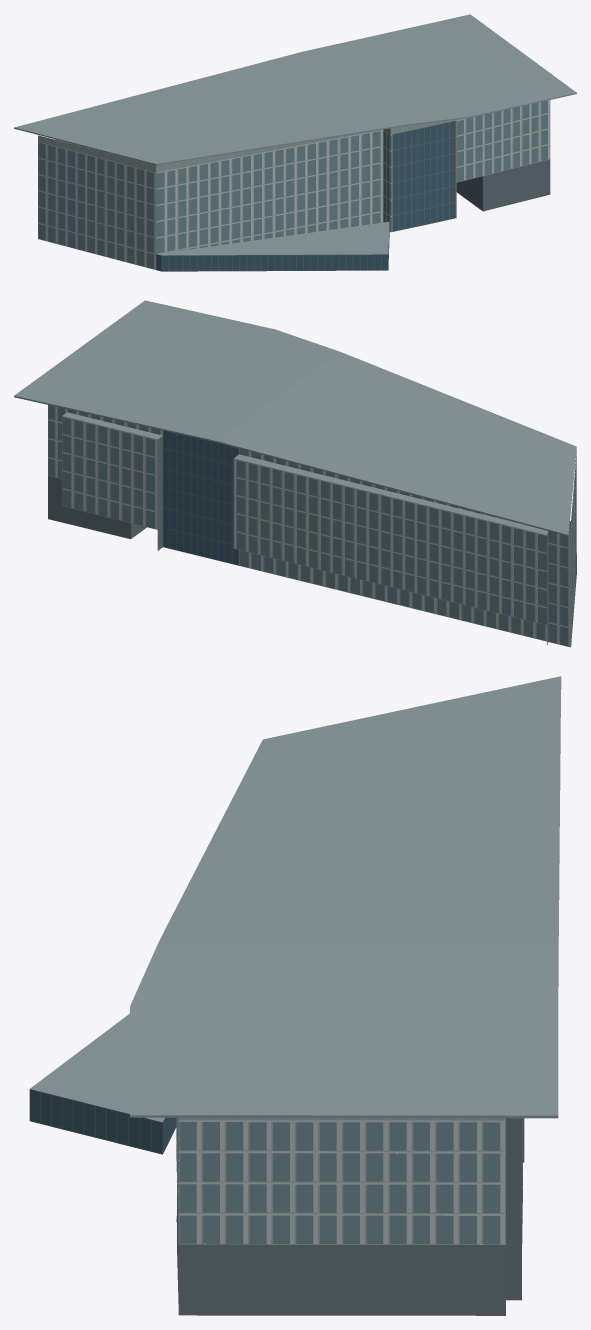
File: surrey-city-hall-near.glb
The picture shows the model from 3 angles, top to bottom: view 1: azimuth 30°, elevation 25°; view 2: azimuth 150°, elevation 25°; view 3: azimuth 270°, elevation 25°; orthographic projection. The views are drawn at different scales.
Parts seen in each view (by area): view 1: surrey-city-hall-0-roof, surrey-city-hall-0-glass, surrey-city-hall-0-frit, surrey-city-hall-0-atrium, surrey-city-hall-0-mullion, surrey-city-hall-0-core, surrey-city-hall-0-glow; view 2: surrey-city-hall-0-roof, surrey-city-hall-0-glass, surrey-city-hall-0-frit, surrey-city-hall-0-mullion, surrey-city-hall-0-atrium, surrey-city-hall-0-core; view 3: surrey-city-hall-0-roof, surrey-city-hall-0-glass, surrey-city-hall-0-core, surrey-city-hall-0-frit, surrey-city-hall-0-mullion, surrey-city-hall-0-atrium, surrey-city-hall-0-glow.
Boxes of the visible parts, left/top/right/bottom form: surrey-city-hall-0-roof: left=14, top=14, right=576, bottom=255; surrey-city-hall-0-glass: left=38, top=100, right=547, bottom=268; surrey-city-hall-0-frit: left=38, top=100, right=550, bottom=269; surrey-city-hall-0-atrium: left=156, top=121, right=455, bottom=271; surrey-city-hall-0-mullion: left=38, top=100, right=550, bottom=269; surrey-city-hall-0-core: left=156, top=120, right=550, bottom=271; surrey-city-hall-0-glow: left=39, top=119, right=461, bottom=172; surrey-city-hall-0-roof: left=14, top=300, right=576, bottom=554; surrey-city-hall-0-glass: left=48, top=405, right=576, bottom=646; surrey-city-hall-0-frit: left=48, top=406, right=576, bottom=646; surrey-city-hall-0-mullion: left=48, top=405, right=576, bottom=647; surrey-city-hall-0-atrium: left=163, top=431, right=576, bottom=573; surrey-city-hall-0-core: left=48, top=430, right=576, bottom=645; surrey-city-hall-0-roof: left=30, top=676, right=561, bottom=1122; surrey-city-hall-0-glass: left=176, top=1117, right=522, bottom=1244; surrey-city-hall-0-core: left=29, top=1089, right=524, bottom=1315; surrey-city-hall-0-frit: left=176, top=1118, right=522, bottom=1244; surrey-city-hall-0-mullion: left=176, top=1117, right=522, bottom=1244; surrey-city-hall-0-atrium: left=30, top=1090, right=176, bottom=1153; surrey-city-hall-0-glow: left=181, top=1117, right=503, bottom=1120.
Bounding box in the file's own units: 124 × 28.8 × 62.68.
